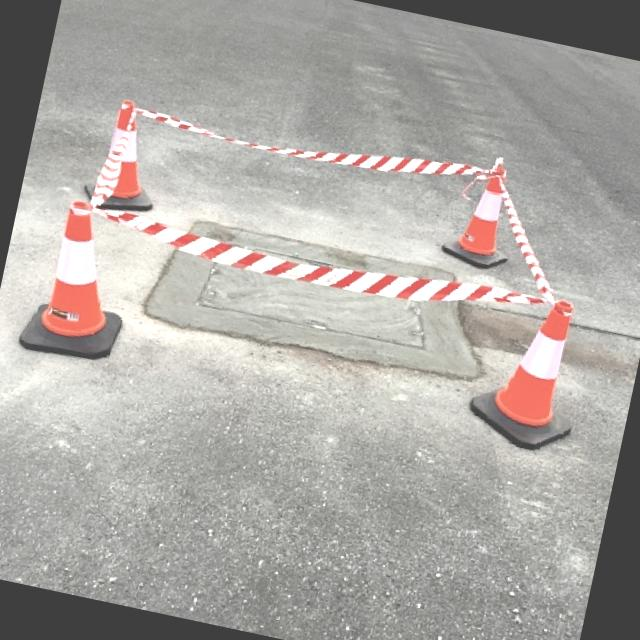cone: (457, 266, 602, 459), (11, 194, 157, 372), (423, 131, 539, 281), (69, 78, 186, 215)
